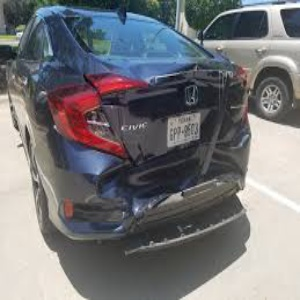bumper: (99, 175, 253, 253)
